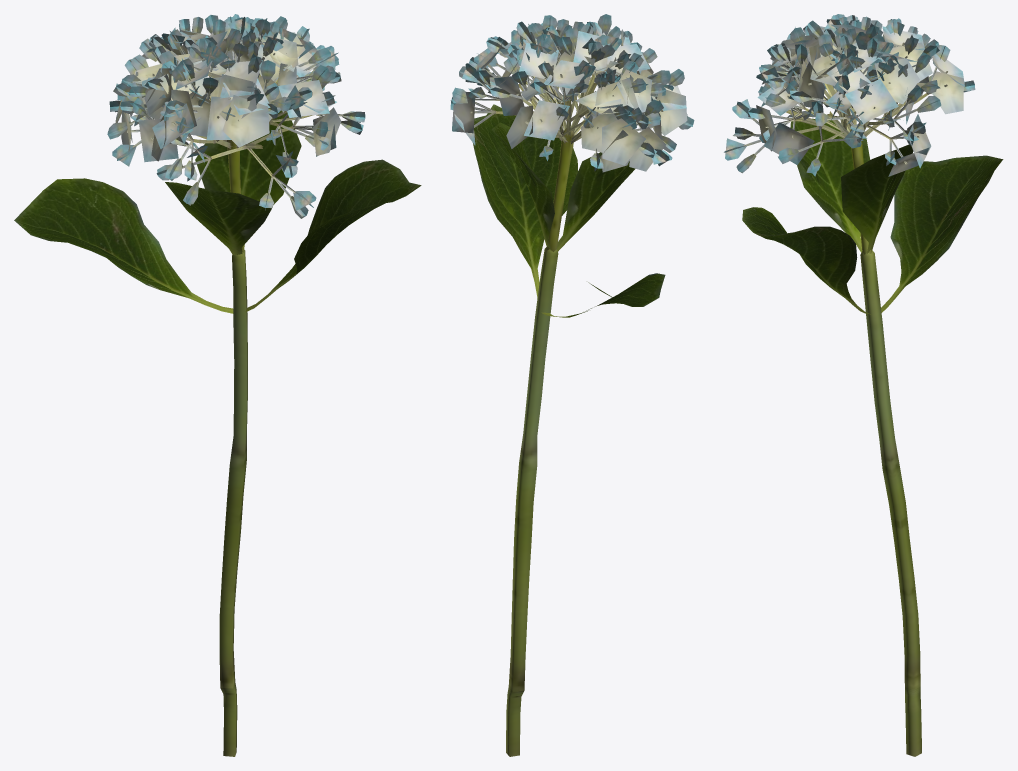
File: Hydrangea_baby_short_cyan.glb
The picture shows the model from 3 angles, left to right: view 1: azimuth 30°, elevation 25°; view 2: azimuth 150°, elevation 25°; view 3: azimuth 270°, elevation 25°; orthographic projection. The views are drawn at different scales.
Visible parts, largest first — view 1: BABY; view 2: BABY; view 3: BABY.
Boxes of the visible parts, box(x1,y1,x2,y2) form: BABY: box(14, 14, 421, 756); BABY: box(450, 14, 694, 756); BABY: box(724, 14, 1003, 756).
Bounding box in the file's own units: 0.7928 × 2.03 × 0.7195.
1 material, 1 textured.
